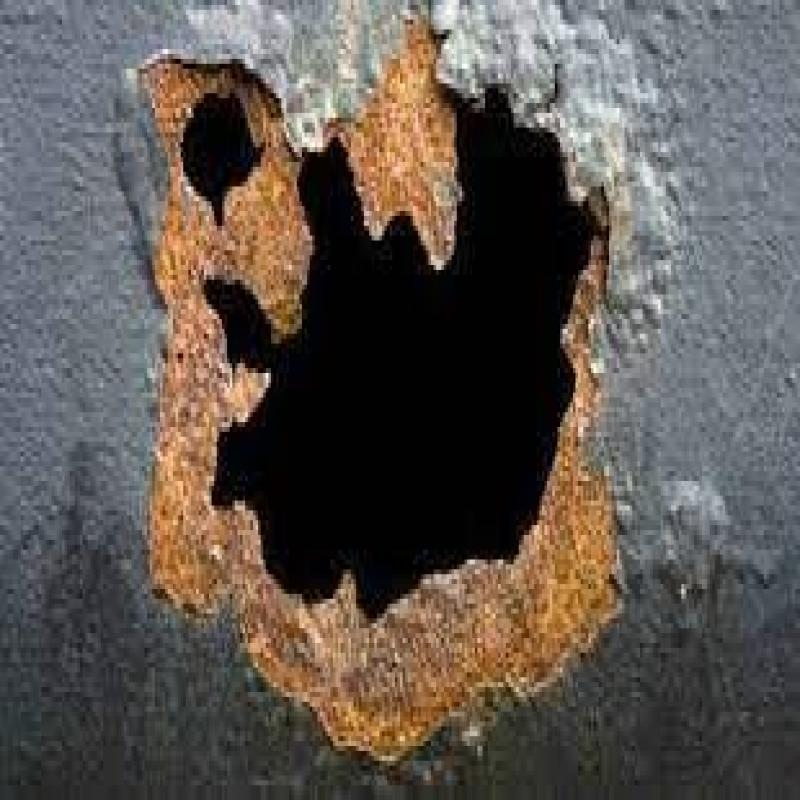Fracture: (296, 147, 573, 565), (182, 95, 258, 221)
